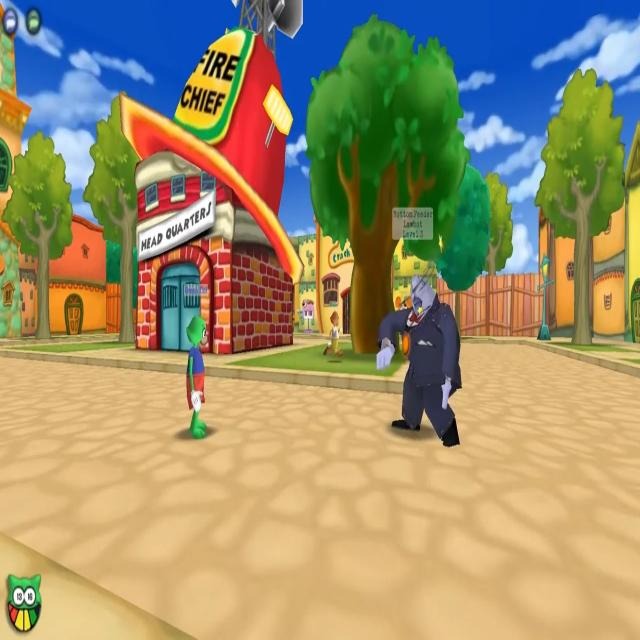bottomfeeder: (375, 201, 463, 450)
